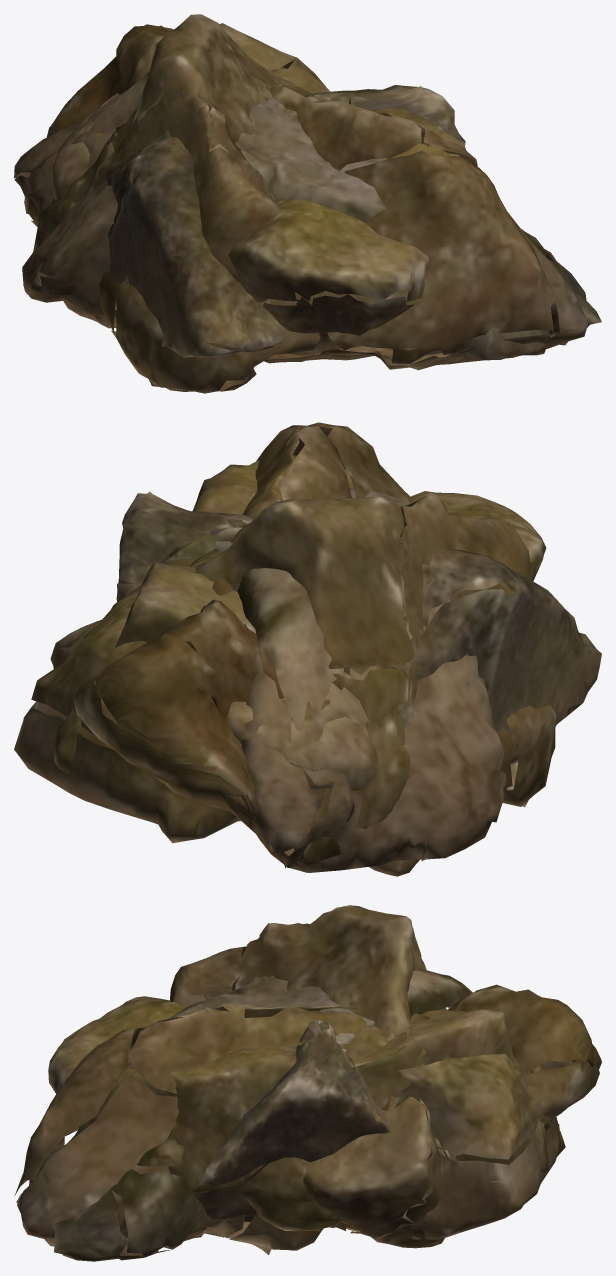
The model's file is rocks-moss.glb.
3 renders of one model, top to bottom at view 1: azimuth 30°, elevation 25°; view 2: azimuth 150°, elevation 25°; view 3: azimuth 270°, elevation 25°, orthographic. The views are drawn at different scales.
Parts seen in each view (by area): view 1: rock_moss_set_01_rock01, rock_moss_set_01_rock02, rock_moss_set_01_rock03, rock_moss_set_01_rock04, rock_moss_set_01_rock05, rock_moss_set_01_rock06; view 2: rock_moss_set_01_rock01, rock_moss_set_01_rock02, rock_moss_set_01_rock04, rock_moss_set_01_rock03, rock_moss_set_01_rock05, rock_moss_set_01_rock06; view 3: rock_moss_set_01_rock01, rock_moss_set_01_rock04, rock_moss_set_01_rock05, rock_moss_set_01_rock06, rock_moss_set_01_rock02, rock_moss_set_01_rock03.
Part boxes in pixels (left/top/right/bottom): rock_moss_set_01_rock01: left=24, top=24, right=588, bottom=393; rock_moss_set_01_rock02: left=14, top=72, right=601, bottom=360; rock_moss_set_01_rock03: left=84, top=85, right=465, bottom=358; rock_moss_set_01_rock04: left=63, top=14, right=310, bottom=328; rock_moss_set_01_rock05: left=52, top=67, right=428, bottom=355; rock_moss_set_01_rock06: left=125, top=23, right=465, bottom=355; rock_moss_set_01_rock01: left=73, top=422, right=556, bottom=866; rock_moss_set_01_rock02: left=208, top=488, right=506, bottom=872; rock_moss_set_01_rock04: left=50, top=493, right=532, bottom=876; rock_moss_set_01_rock03: left=116, top=491, right=601, bottom=763; rock_moss_set_01_rock05: left=14, top=491, right=546, bottom=843; rock_moss_set_01_rock06: left=54, top=454, right=513, bottom=774; rock_moss_set_01_rock01: left=14, top=984, right=601, bottom=1254; rock_moss_set_01_rock04: left=170, top=905, right=446, bottom=1248; rock_moss_set_01_rock05: left=48, top=996, right=565, bottom=1239; rock_moss_set_01_rock06: left=88, top=1008, right=548, bottom=1231; rock_moss_set_01_rock02: left=29, top=968, right=573, bottom=1261; rock_moss_set_01_rock03: left=193, top=975, right=456, bottom=1220.
Size of the model in its own units: 2.65 by 1.76 by 3.36.
Materials: 1 (1 with a texture image).
